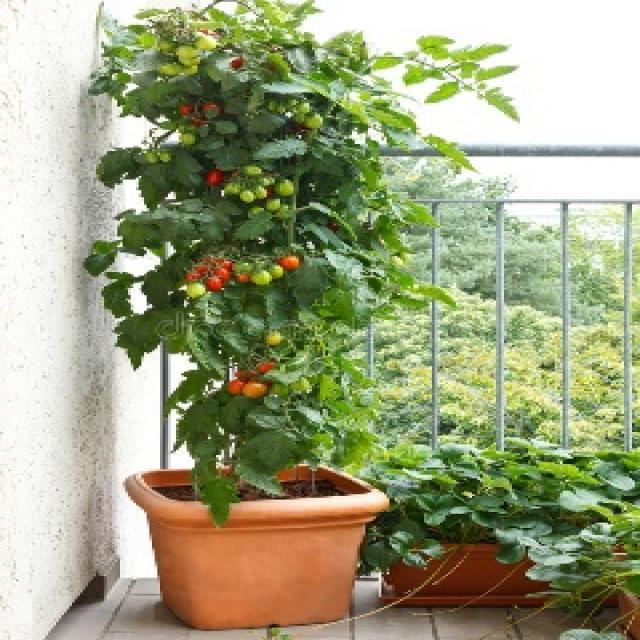plant: (253, 142, 307, 159)
